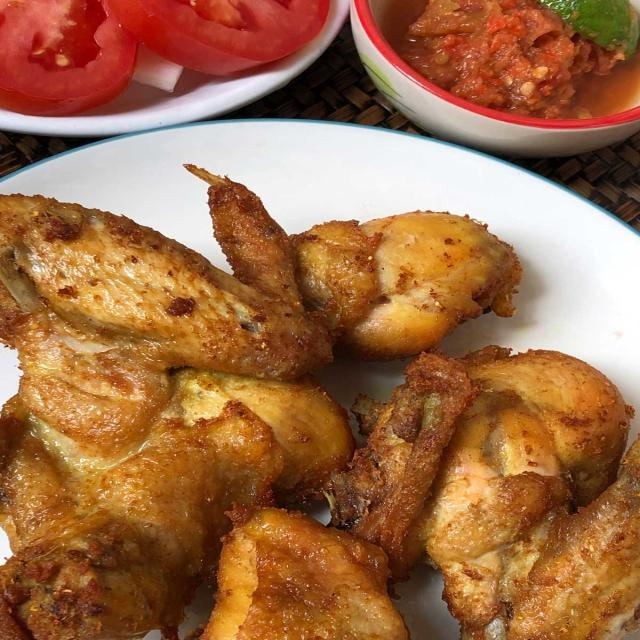ayam_goreng: (0, 151, 632, 610)
